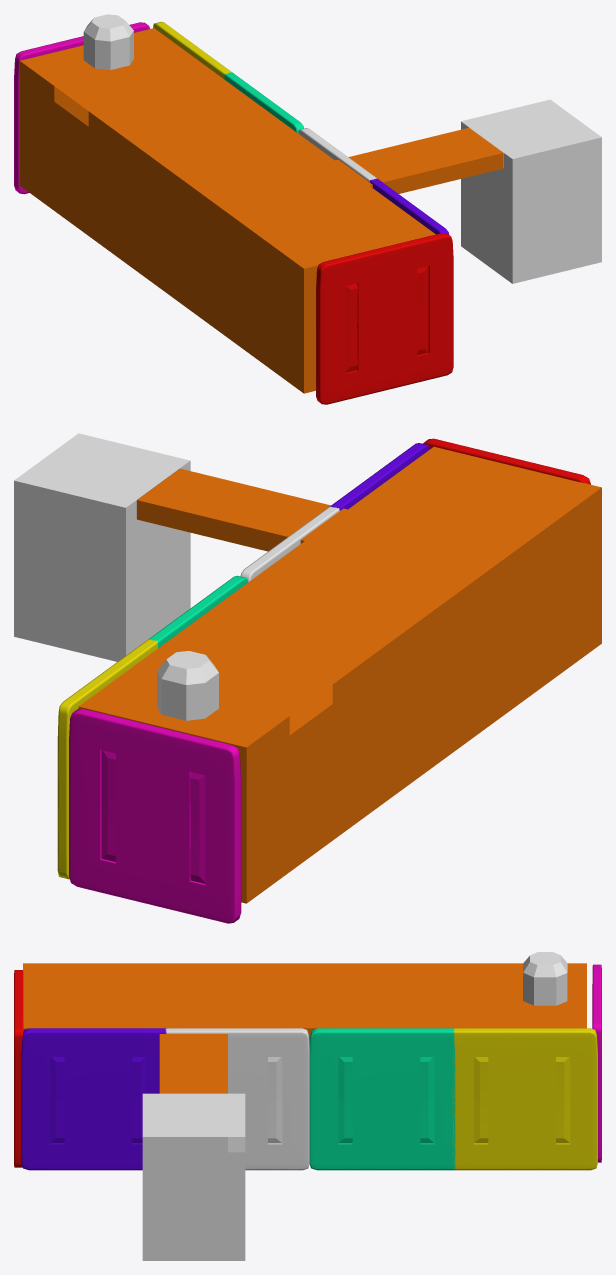
Rendered from PARTE PARA UNITY SINNN TEXTURAS.fbx.
The picture shows the model from 3 angles, top to bottom: view 1: azimuth 30°, elevation 25°; view 2: azimuth 150°, elevation 25°; view 3: azimuth 270°, elevation 25°; orthographic projection. The views are drawn at different scales.
Parts seen in each view (by area): view 1: polySurface1, polySurface2, pared__1_, _PolyShape_4_1__1_, pared__6_, pared__4_, pared__2_, pared__5_, pared__3_; view 2: polySurface1, polySurface2, pared__6_, _PolyShape_4_1__1_, pared__5_, pared__4_, pared__2_, pared__1_, pared__3_; view 3: polySurface1, pared__4_, pared__5_, pared__2_, polySurface2, pared__3_, _PolyShape_4_1__1_, pared__1_, pared__6_.
Boxes of the visible parts, bbox=[...] form: polySurface1: bbox=[20, 28, 503, 393]; polySurface2: bbox=[461, 99, 601, 283]; pared__1_: bbox=[316, 233, 453, 404]; _PolyShape_4_1__1_: bbox=[83, 14, 133, 69]; pared__6_: bbox=[14, 22, 150, 194]; pared__4_: bbox=[224, 72, 303, 132]; pared__2_: bbox=[370, 178, 449, 234]; pared__5_: bbox=[153, 21, 231, 78]; pared__3_: bbox=[298, 128, 376, 182]; polySurface1: bbox=[78, 446, 601, 903]; polySurface2: bbox=[14, 433, 190, 661]; pared__6_: bbox=[69, 708, 241, 923]; _PolyShape_4_1__1_: bbox=[157, 651, 218, 720]; pared__5_: bbox=[57, 639, 157, 879]; pared__4_: bbox=[149, 575, 247, 648]; pared__2_: bbox=[330, 443, 429, 510]; pared__1_: bbox=[423, 438, 590, 484]; pared__3_: bbox=[240, 506, 339, 582]; polySurface1: bbox=[23, 963, 586, 1093]; pared__4_: bbox=[309, 1028, 455, 1170]; pared__5_: bbox=[452, 1028, 597, 1170]; pared__2_: bbox=[21, 1028, 166, 1170]; polySurface2: bbox=[142, 1093, 245, 1260]; pared__3_: bbox=[165, 1028, 309, 1170]; _PolyShape_4_1__1_: bbox=[523, 952, 567, 1005]; pared__1_: bbox=[14, 970, 23, 1167]; pared__6_: bbox=[592, 964, 601, 1162].
Size of the model in its own units: 24.02 by 11.24 by 34.4.
